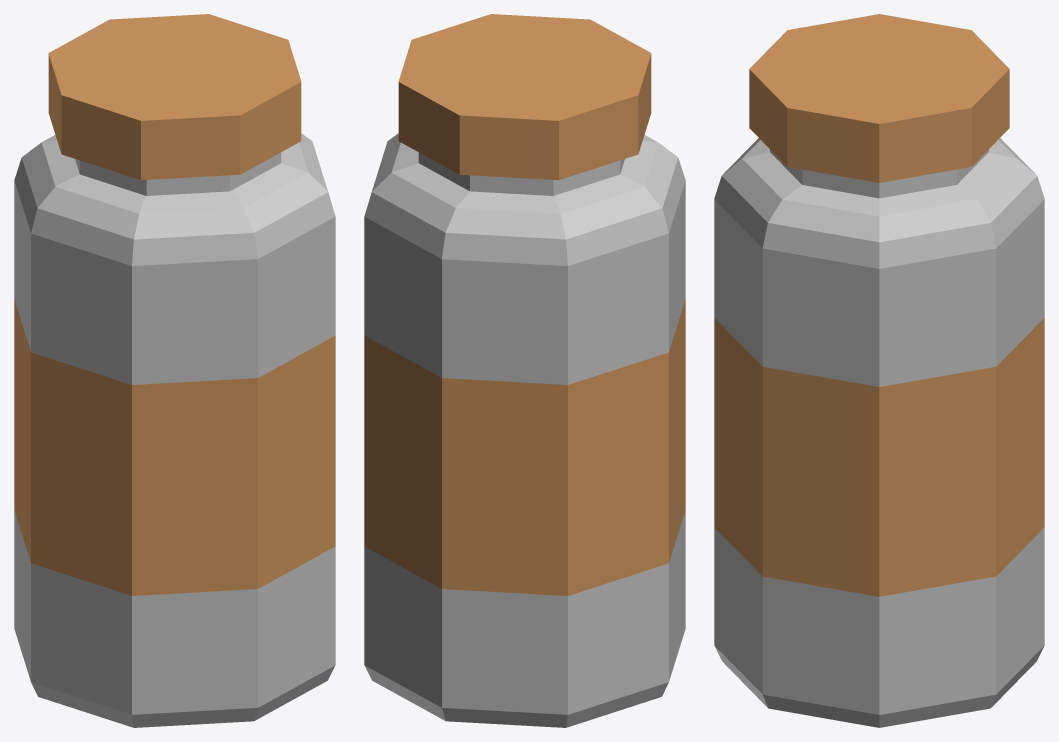
File: Milk_Camel.fbx
3 views of the same model, side by side, from view 1: azimuth 30°, elevation 25°; view 2: azimuth 150°, elevation 25°; view 3: azimuth 270°, elevation 25° (orthographic).
Parts seen in each view (by area): view 1: Milk_Camel; view 2: Milk_Camel; view 3: Milk_Camel.
Part boxes in pixels (box(x1,y1,x2,y2)): Milk_Camel: box(14, 14, 335, 727); Milk_Camel: box(364, 14, 685, 727); Milk_Camel: box(714, 14, 1044, 727).
Size of the model in its own units: 0.35 by 0.7 by 0.35.
